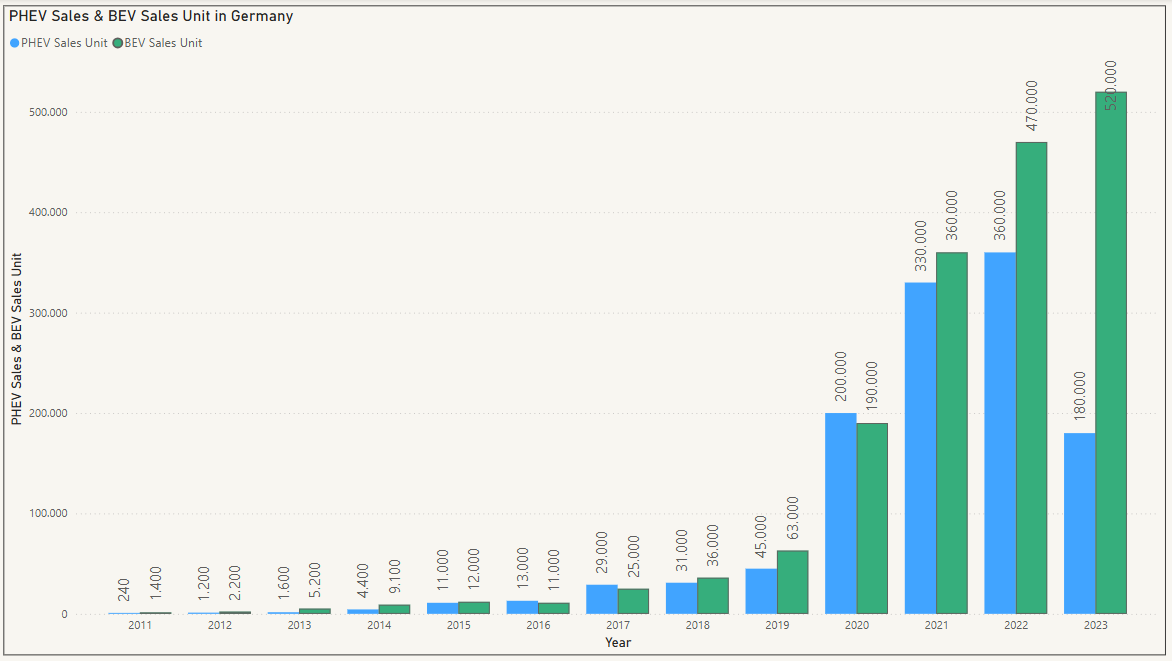

Layout of this report page (visuals, bound fields, positions):
{"tool":"powerbi","page":{"name":"PHEV & EV","canvas":[1280,720],"ordinal":0},"visuals":[{"type":"clusteredColumnChart","title":"PHEV Sales & BEV Sales Unit in Germany","fields":{"Y":["Sum(PHEV vs BEV GER.PHEV Sales)","Sum(PHEV vs BEV GER.BEV Sales)"],"Category":["PHEV vs BEV GER.Year"]},"box":[11.3,8.1,1254.9,701.1],"z":0}]}

Visuals, with their boxes in screenshot pixels (x1, y1, x2, y2), scaled from the page's 1280x720 canvas onto the 1172x661 screenshot:
"PHEV Sales & BEV Sales Unit in Germany" clusteredColumnChart: x1=10 y1=7 x2=1159 y2=651
